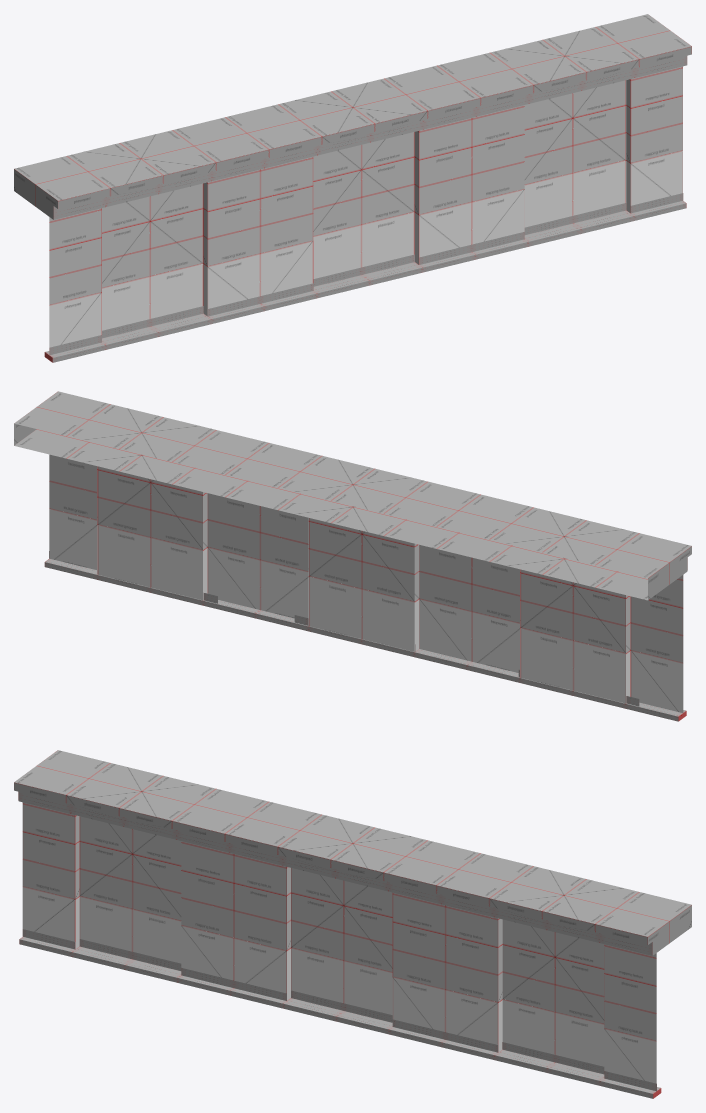
3 views of the same model, one above another, from view 1: azimuth 30°, elevation 25°; view 2: azimuth 150°, elevation 25°; view 3: azimuth 330°, elevation 25° (orthographic).
Parts seen in each view (by area): view 1: S_00_base_3x_b; view 2: S_00_base_3x_b; view 3: S_00_base_3x_b.
Boxes of the visible parts, box(x1,y1,x2,y2) form: S_00_base_3x_b: box(14, 14, 691, 362); S_00_base_3x_b: box(14, 391, 691, 721); S_00_base_3x_b: box(14, 750, 691, 1098).
Bounding box in the file's own units: 60.02 × 7.23 × 15.
